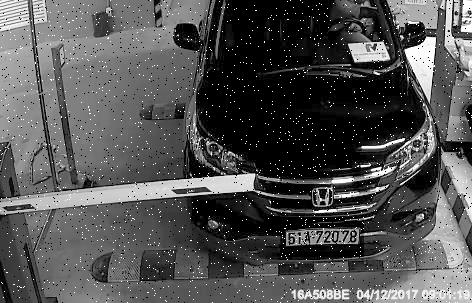License-plate: (281, 218, 365, 258)
